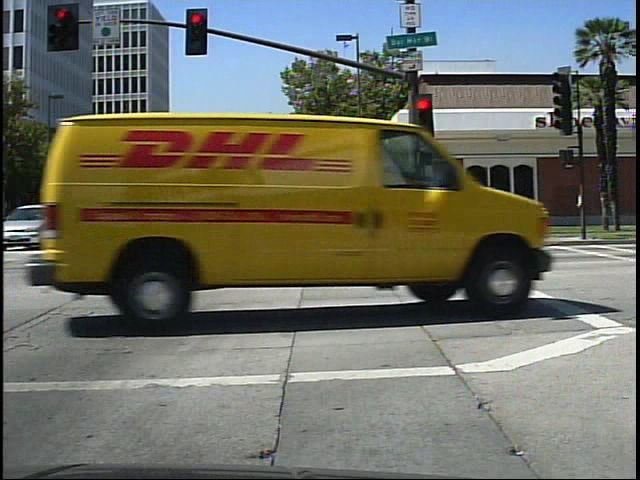person: (280, 204, 294, 222)
